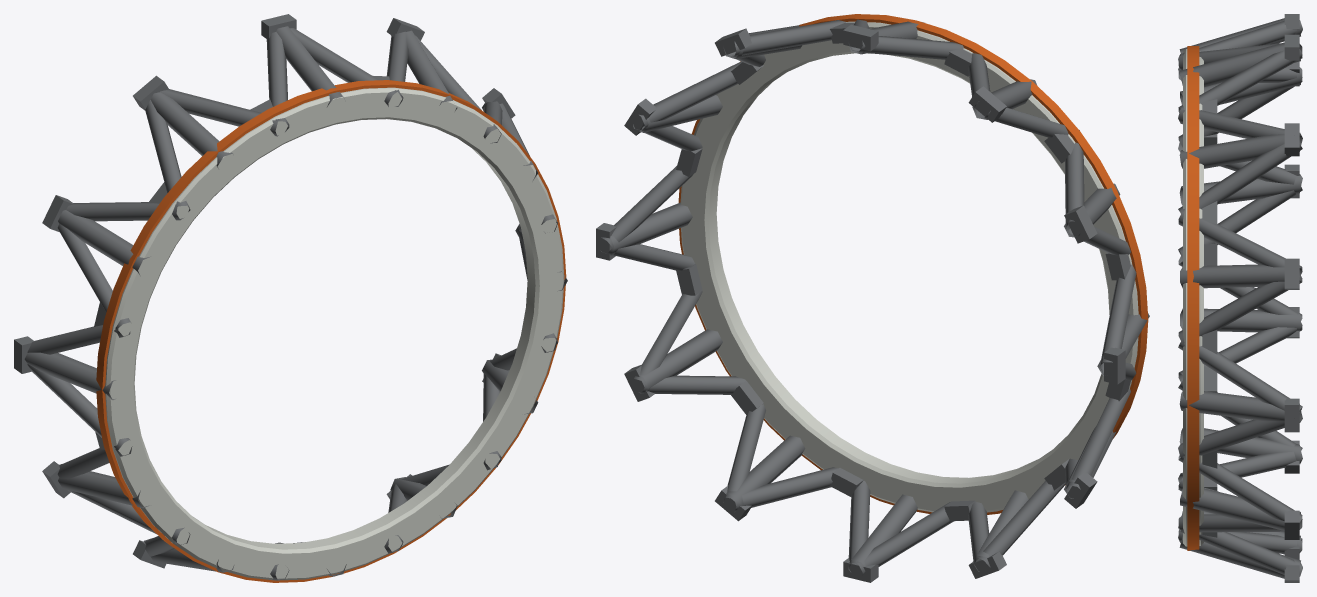
File: u73l_interstage.obj
3 views of the same model, side by side, from view 1: azimuth 30°, elevation 25°; view 2: azimuth 150°, elevation 25°; view 3: azimuth 270°, elevation 25° (orthographic). The views are drawn at different scales.
Parts seen in each view (by area): view 1: u73l_interstage; view 2: u73l_interstage; view 3: u73l_interstage.
Part boxes in pixels (x1=…): u73l_interstage: x1=14, y1=14, x2=567, y2=582; u73l_interstage: x1=596, y1=14, x2=1149, y2=582; u73l_interstage: x1=1178, y1=14, x2=1302, y2=582.
Size of the model in its own units: 3.8 by 3.8 by 0.8354.
